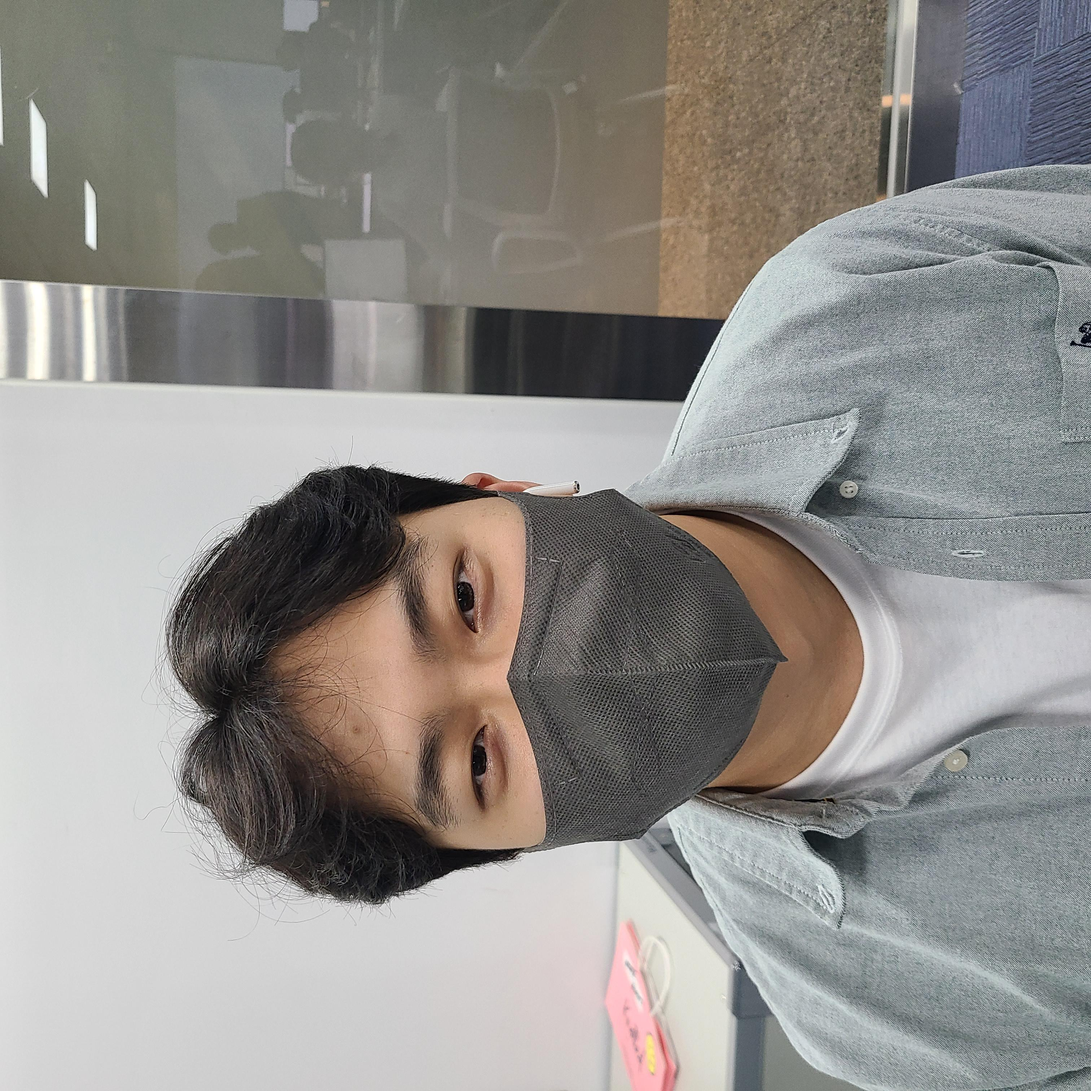earphone: (587, 509, 622, 587)
